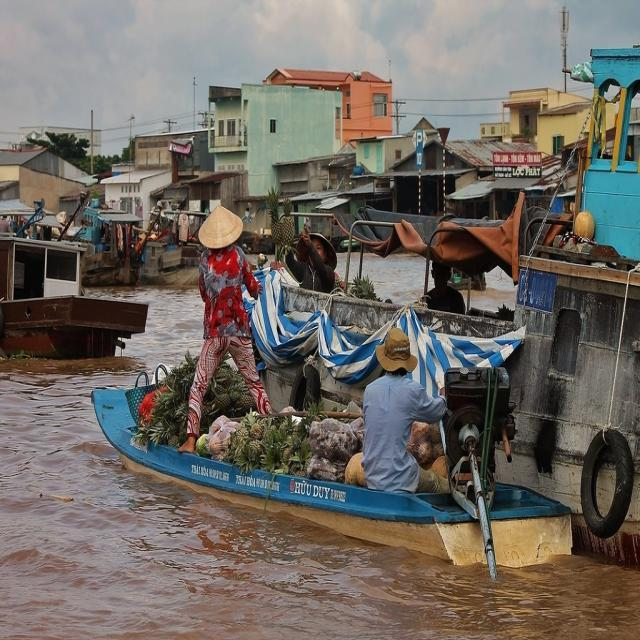boat: (80, 370, 579, 580)
